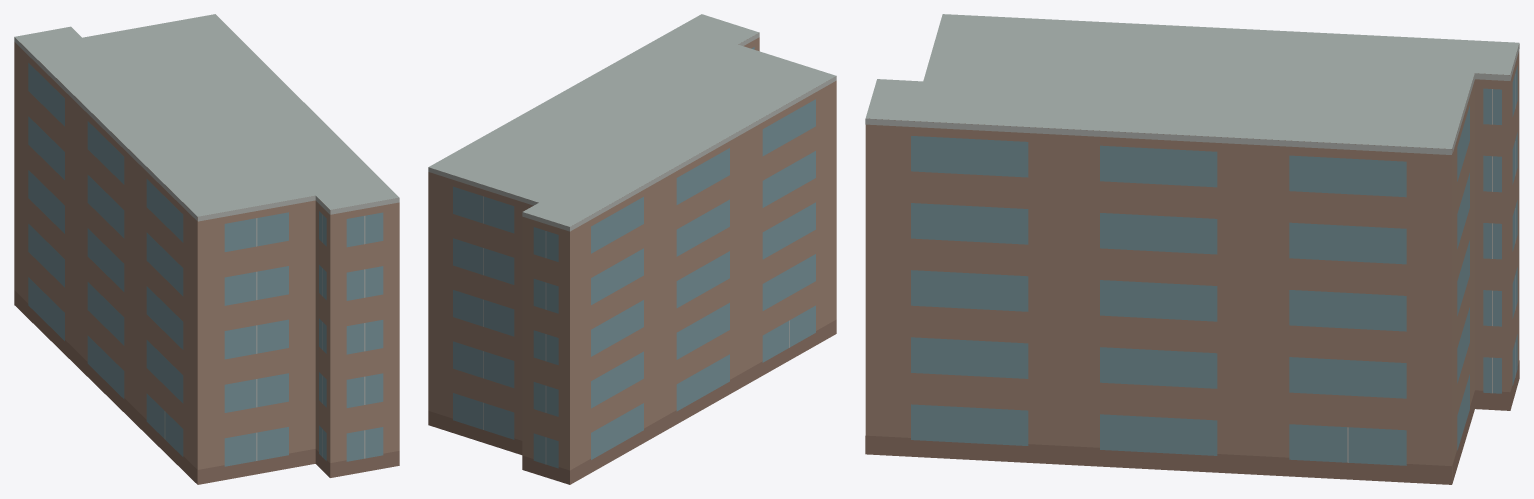
Rendered from survey-upis-32566572.glb.
The picture shows the model from 3 angles, left to right: view 1: azimuth 30°, elevation 25°; view 2: azimuth 150°, elevation 25°; view 3: azimuth 270°, elevation 25°; orthographic projection. The views are drawn at different scales.
Parts seen in each view (by area): view 1: survey-upis-32566572.tmp; view 2: survey-upis-32566572.tmp; view 3: survey-upis-32566572.tmp.
Boxes of the visible parts, bbox=[...] form: survey-upis-32566572.tmp: bbox=[14, 14, 399, 484]; survey-upis-32566572.tmp: bbox=[428, 14, 836, 484]; survey-upis-32566572.tmp: bbox=[865, 14, 1519, 484].
Size of the model in its own units: 11.75 by 13.6 by 24.02.
